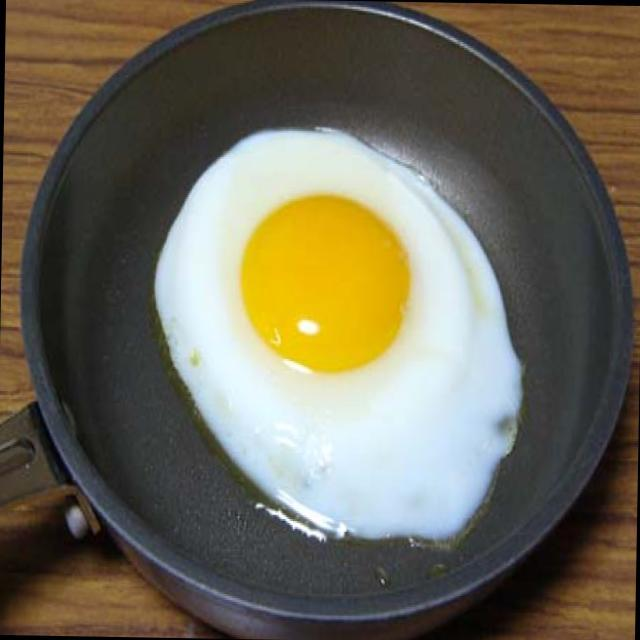Egg: (137, 109, 533, 561)
